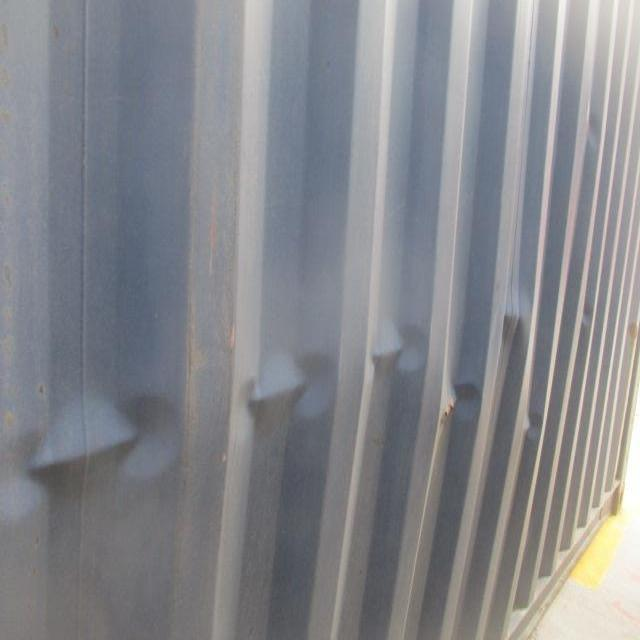dent: (1, 255, 607, 535)
